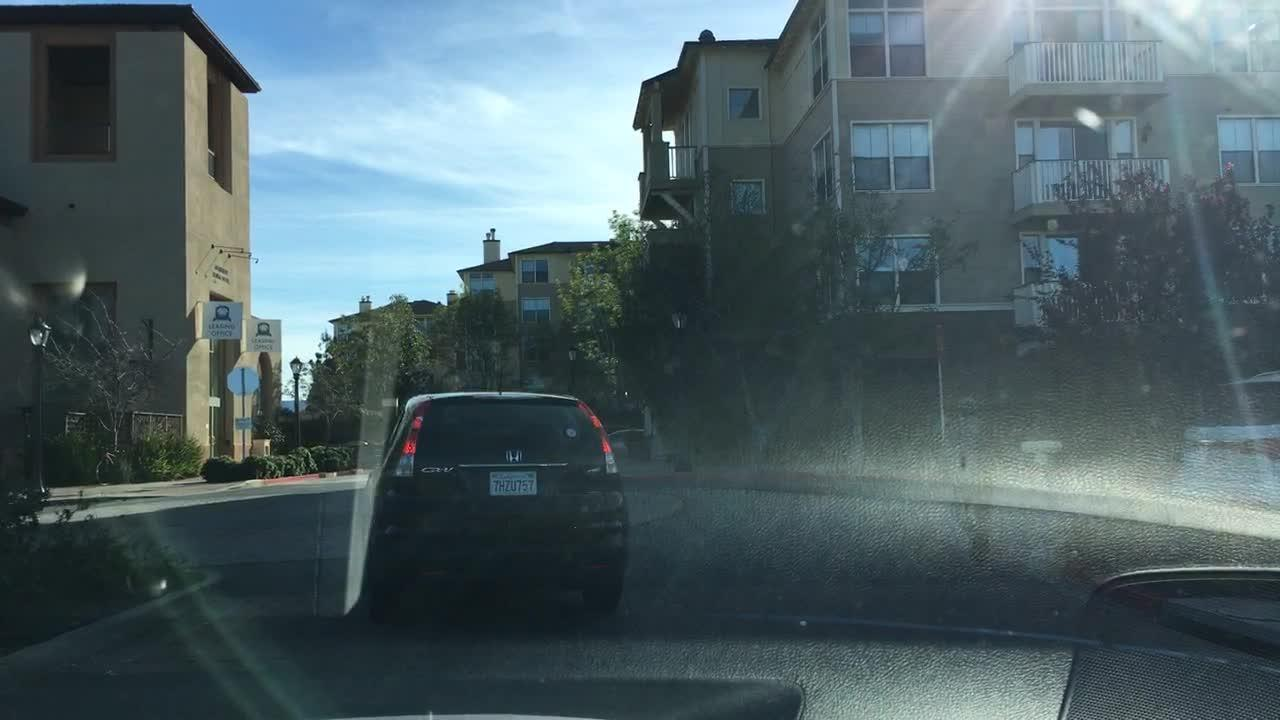Honda: (499, 440, 530, 476)
